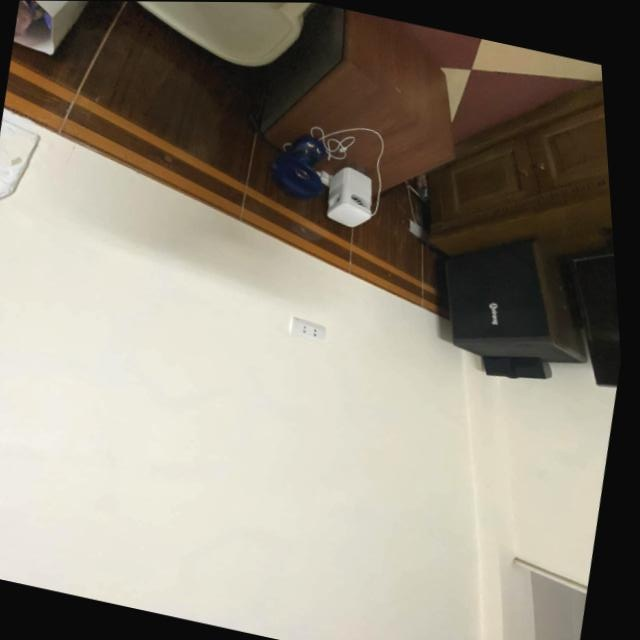outlet: (286, 317, 328, 346)
